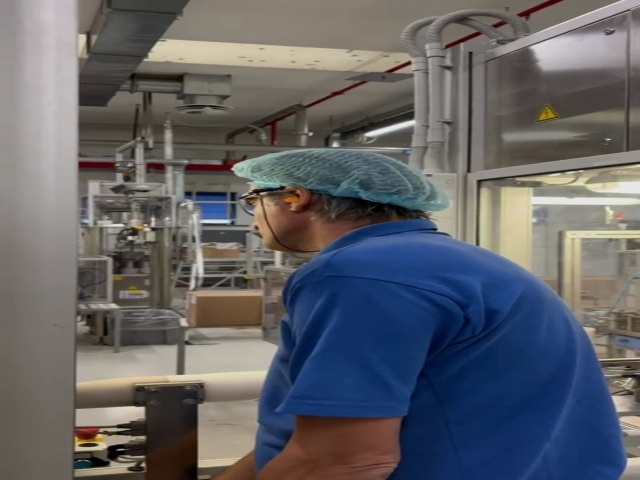Earplug: (279, 185, 311, 212)
Hairnet: (238, 147, 446, 209)
No_Helmet: (239, 149, 443, 207)
No_Vest: (288, 242, 628, 480)
Person: (229, 147, 625, 480)
Safety_Goggles: (237, 186, 287, 211)
